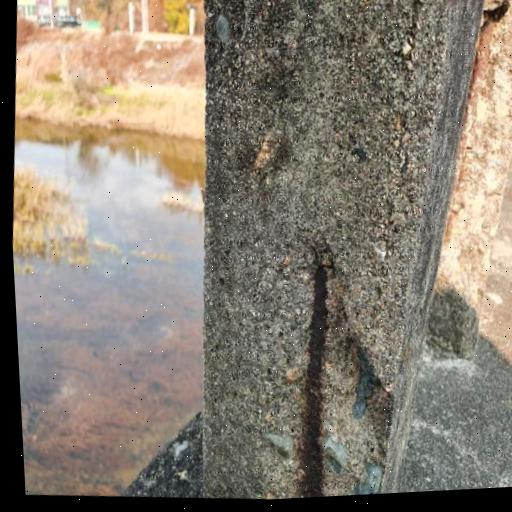exposed_rebar: (301, 266, 329, 498)
